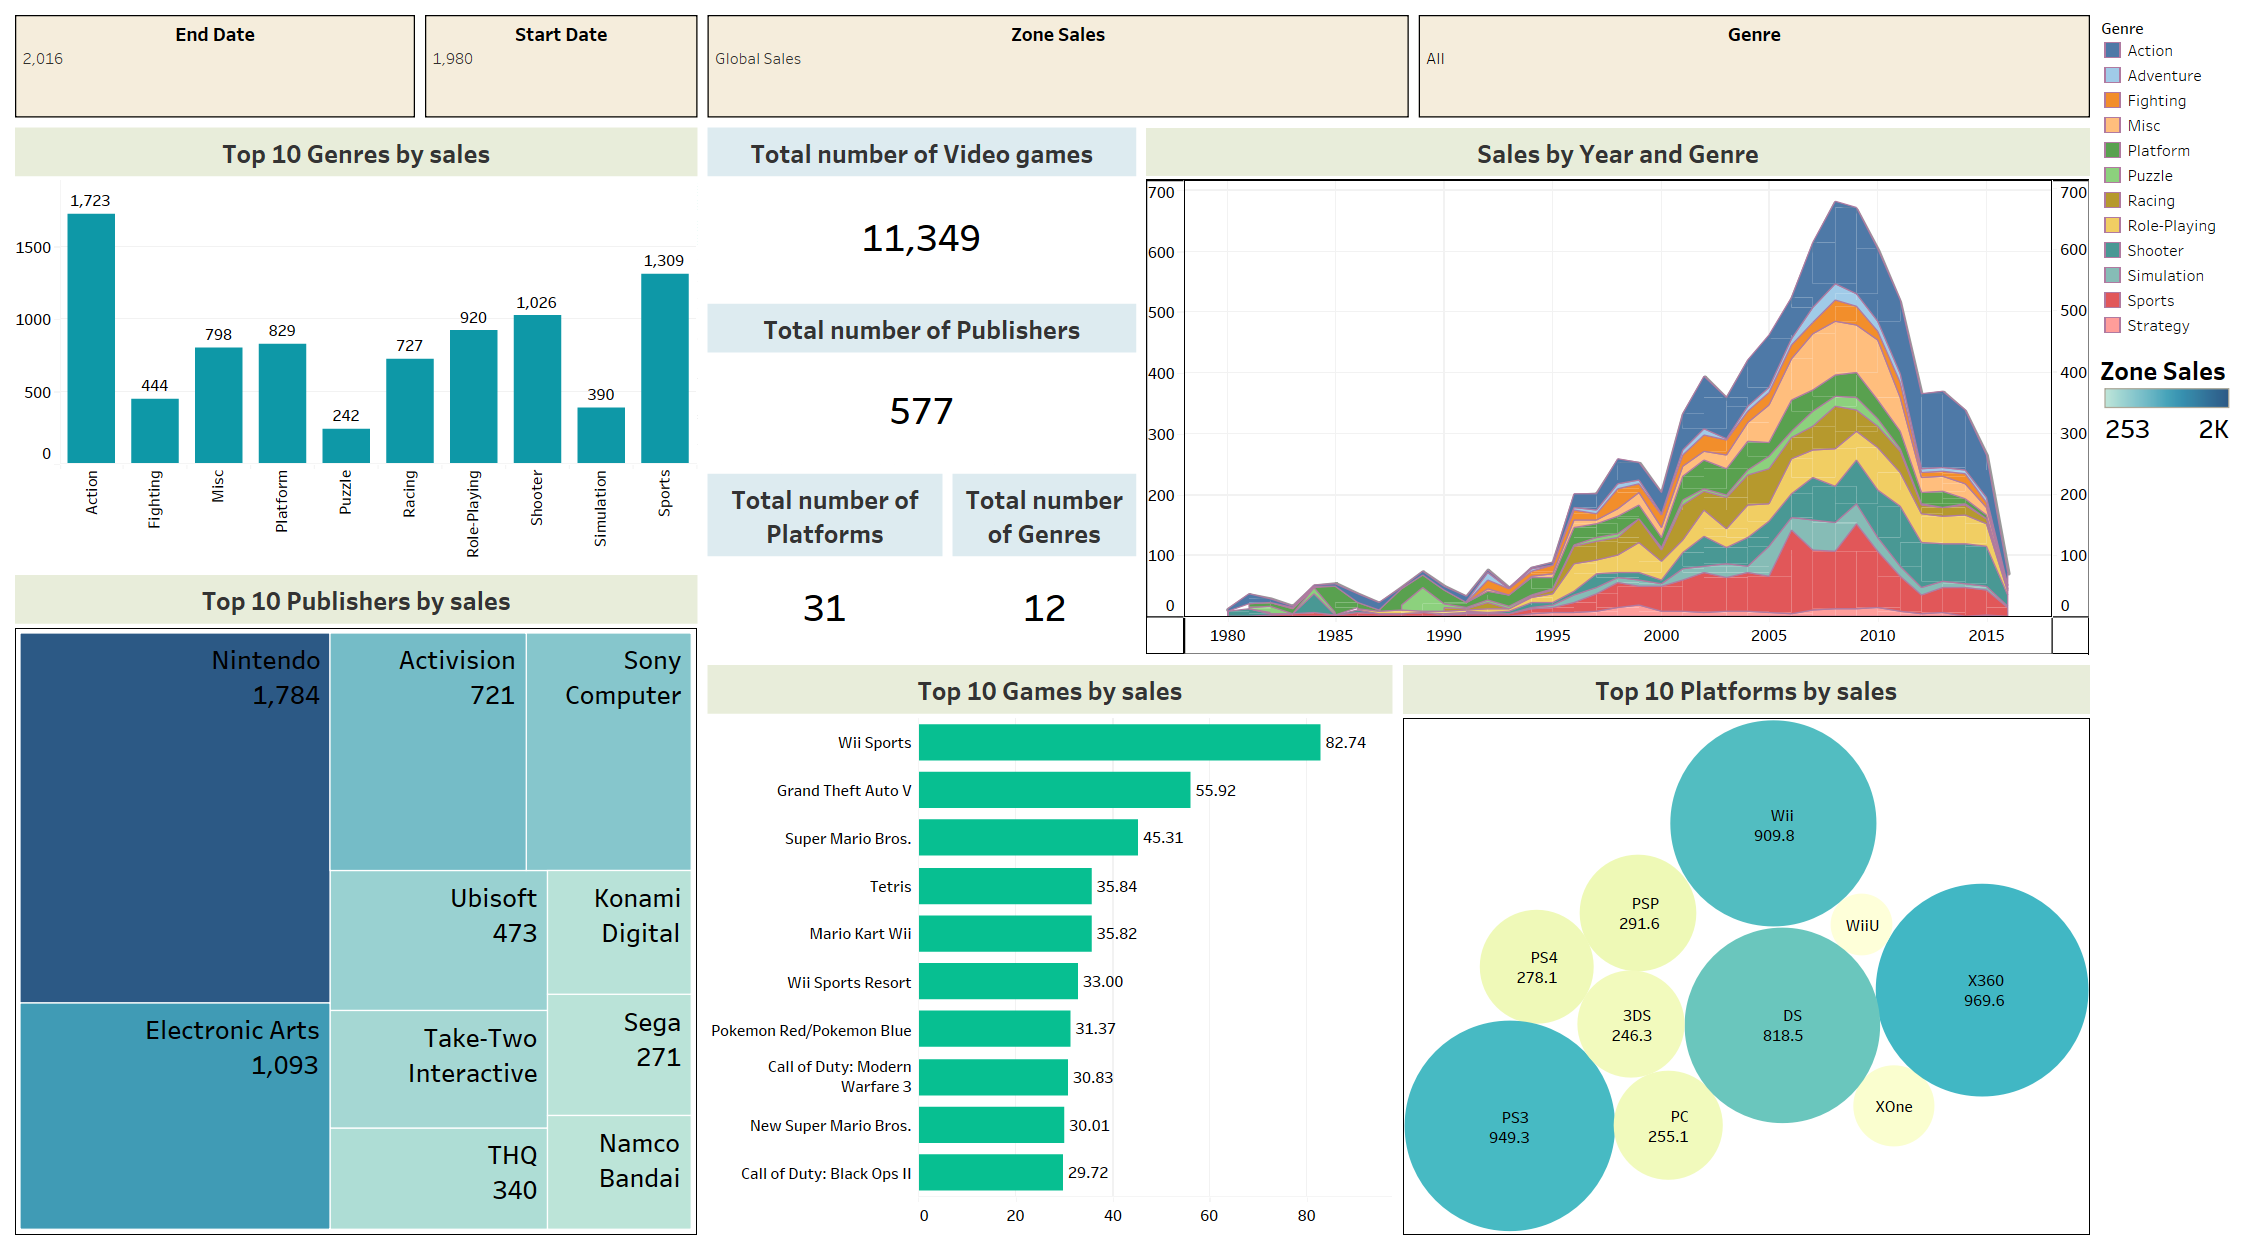

The dashboard page shown, as its layout file describes it:
{"tool":"tableau","page":{"name":"Dashboard 1","canvas":[1800,1000],"ordinal":0},"visuals":[{"type":"parameter","param":"[Parameters].[Parameter 3]","box":[8,8,328,90]},{"type":"parameter","param":"[Parameters].[Parameter 2]","box":[336,8,226,90]},{"type":"parameter","param":"[Parameters].[Parameter 1]","box":[562,8,569.1,90]},{"type":"filter","title":"Sales by Year and Genre","param":"[federated.1jv88h30e3loh81ae6rc4030pjfo].[none:Genre:nk]","box":[1131.1,8,544.9,90]},{"type":"legend","title":"Sales by Year and Genre","param":"[federated.1jv88h30e3loh81ae6rc4030pjfo].[none:Genre:nk]","box":[1676,8,116,266]},{"type":"worksheet","title":"Top 10 Genres by sales","mark":"Bar","rows":["Calculation_684828634078048256"],"cols":["Genre"],"box":[8,98,554,358]},{"type":"worksheet","title":"Total number of Video games","mark":"Automatic","box":[562,98,350.9,141]},{"type":"worksheet","title":"Sales by Year and Genre","mark":"Automatic","rows":["Calculation_684828634078048256","Calculation_684828634078048256"],"cols":["Year"],"box":[912.9,98,763.1,430]},{"type":"worksheet","title":"Total number of Publishers","mark":"Automatic","box":[562,239,350.9,136]},{"type":"legend","title":"Top 10 Publishers by sales","param":"[federated.1jv88h30e3loh81ae6rc4030pjfo].[sum:Calculation_684828634078048256:qk]","box":[1676,274,116,86]},{"type":"worksheet","title":"Total number of Platforms","mark":"Automatic","box":[562,375,195.9,153]},{"type":"worksheet","title":"Total number of Genres","mark":"Automatic","box":[757.9,375,155,153]},{"type":"worksheet","title":"Top 10 Publishers by sales","mark":"Automatic","box":[8,456,554,536]},{"type":"worksheet","title":"Top 10 Games by sales","mark":"Bar","rows":["Name"],"cols":["Calculation_684828634078048256"],"box":[562,528,556,464]},{"type":"worksheet","title":"Top 10 Platforms by sales","mark":"Circle","box":[1118,528,558,464]}]}

Visuals, with their boxes in screenshot pixels (x1, y1, x2, y2), scaled from the page's 1800x1000 canvas onto the 2250x1250 screenshot:
parameter: (10,10,420,122)
parameter: (420,10,702,122)
parameter: (702,10,1414,122)
"Sales by Year and Genre" filter: (1414,10,2095,122)
"Sales by Year and Genre" legend: (2095,10,2240,342)
"Top 10 Genres by sales" worksheet (Bar marks): (10,122,702,570)
"Total number of Video games" worksheet: (702,122,1141,299)
"Sales by Year and Genre" worksheet: (1141,122,2095,660)
"Total number of Publishers" worksheet: (702,299,1141,469)
"Top 10 Publishers by sales" legend: (2095,342,2240,450)
"Total number of Platforms" worksheet: (702,469,947,660)
"Total number of Genres" worksheet: (947,469,1141,660)
"Top 10 Publishers by sales" worksheet: (10,570,702,1240)
"Top 10 Games by sales" worksheet (Bar marks): (702,660,1398,1240)
"Top 10 Platforms by sales" worksheet (Circle marks): (1398,660,2095,1240)
